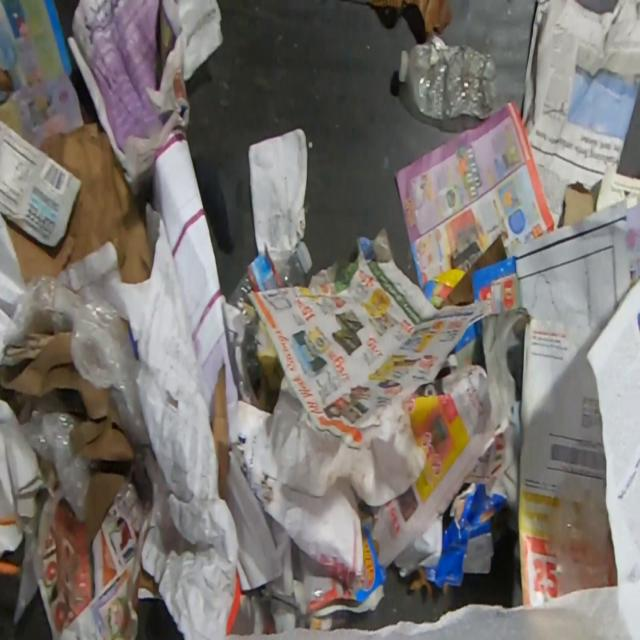cardboard: (0, 331, 135, 542), (4, 122, 154, 285), (408, 474, 507, 596), (212, 361, 231, 500), (558, 181, 597, 226)
rigid_plastic: (226, 240, 314, 385), (398, 33, 499, 121)
soft_plastic: (0, 257, 150, 447), (11, 408, 91, 625), (542, 471, 617, 598)
